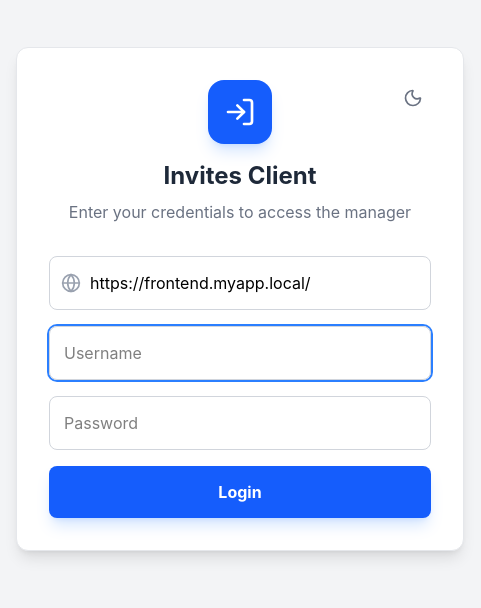
Test: login flow › shows an error message when login fails
In the field with placeholder "Username": (240, 353) [49, 326, 431, 380], type "bad"
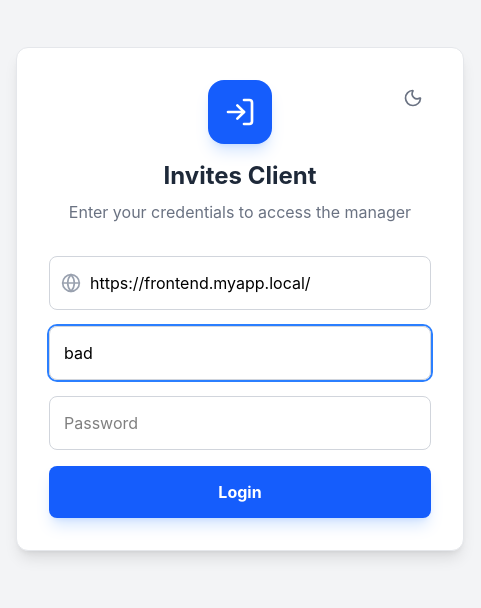
In the password field with placeholder "Password": (240, 423) [49, 396, 431, 450], type "pw"
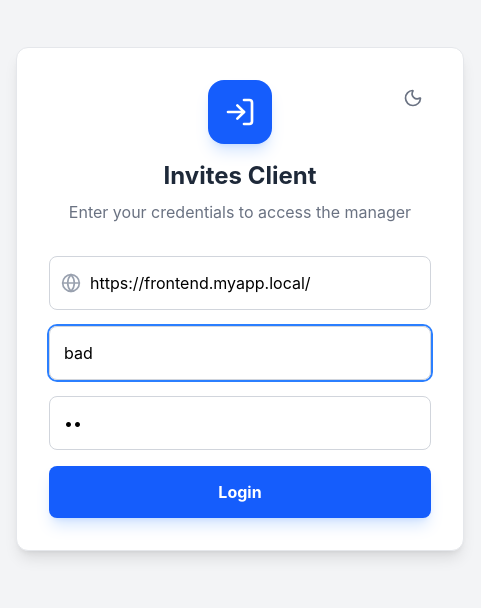
Click the button "Login": (240, 492) [49, 466, 431, 518]
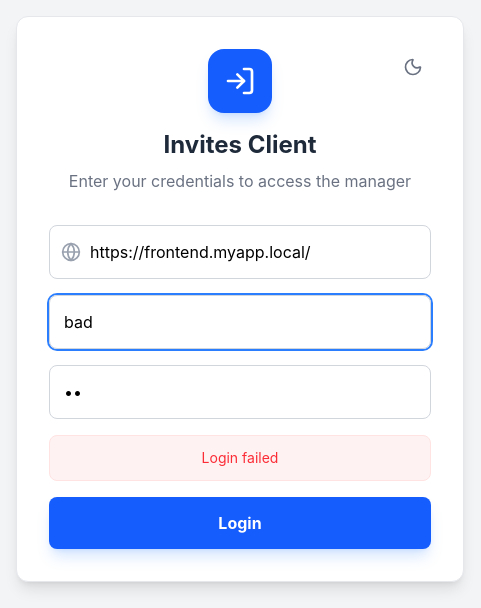
Expected: the text "Login failed" is shown, [202, 449, 278, 466]
